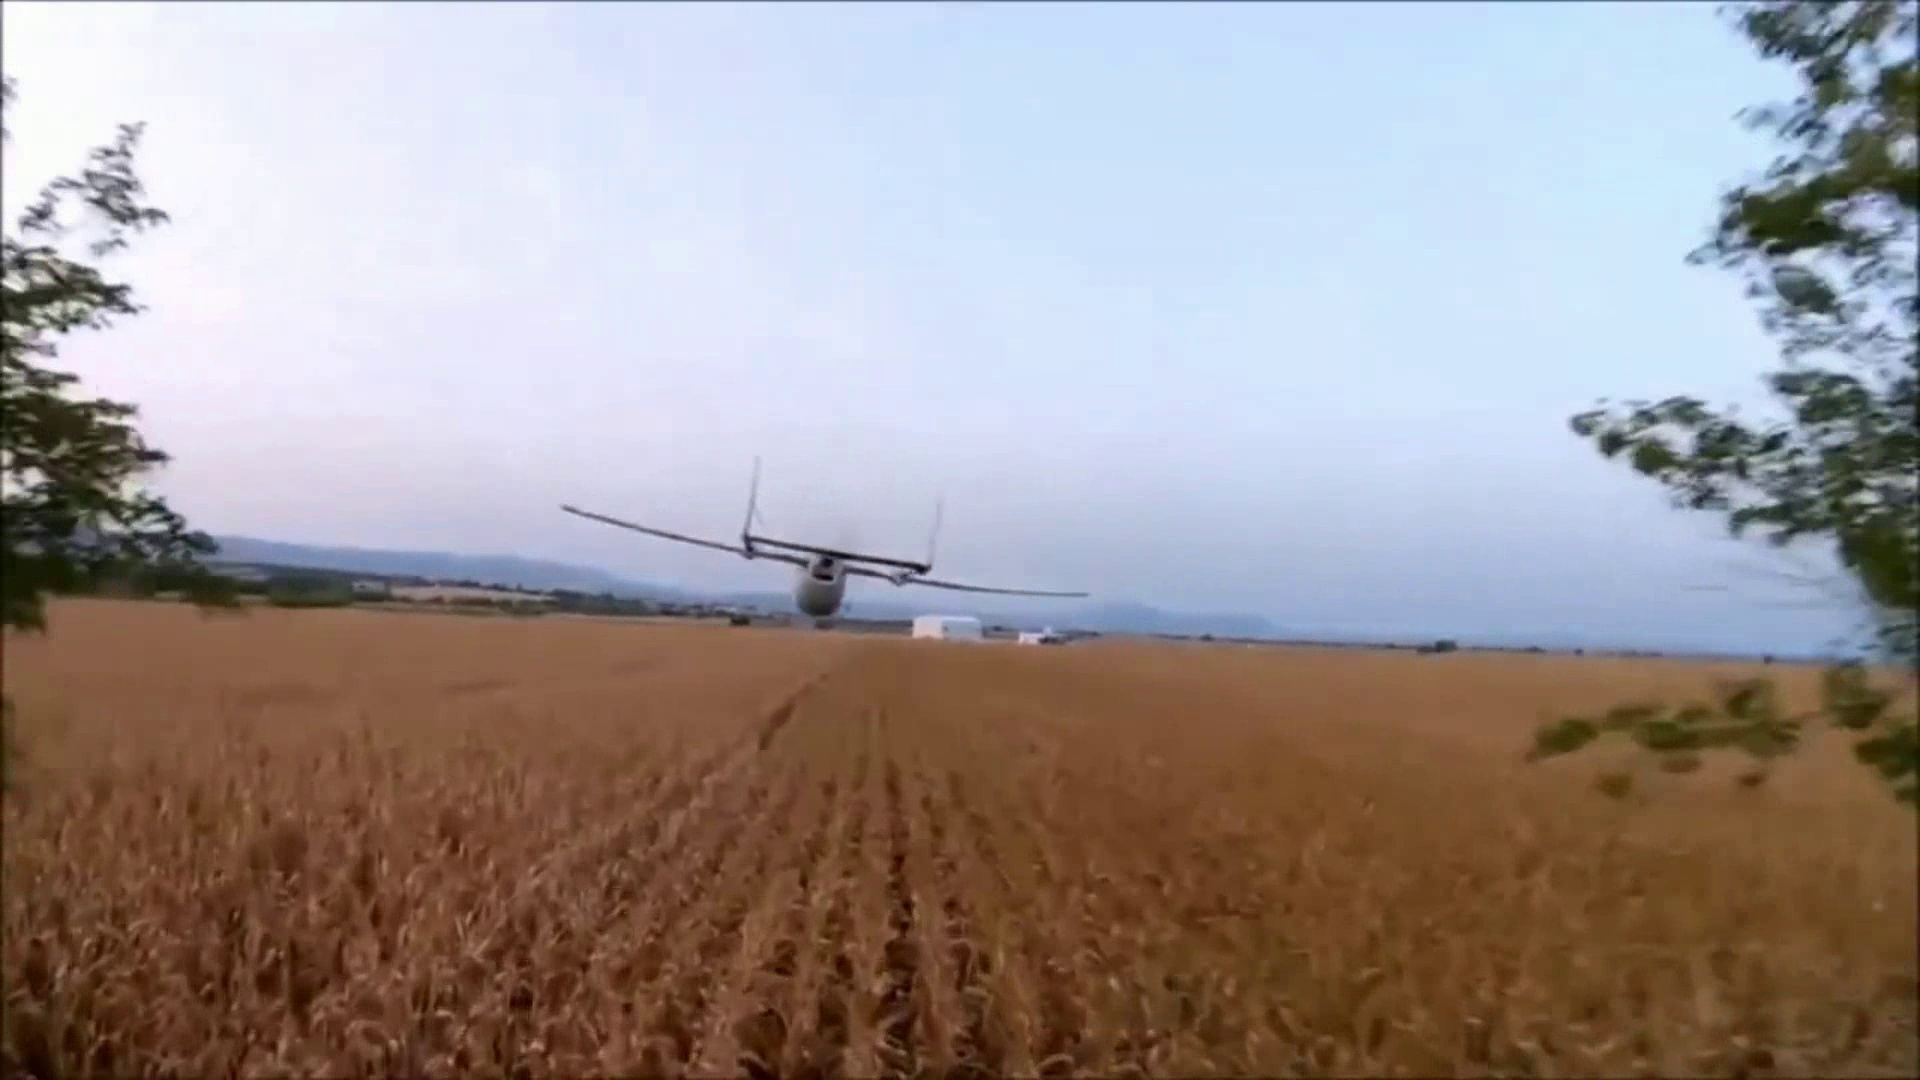airplane: (560, 458, 1095, 628)
